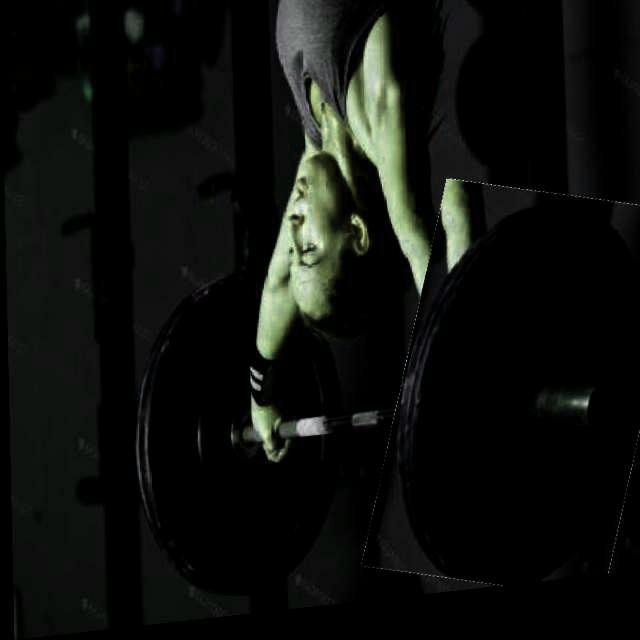barbell: (374, 186, 640, 609)
